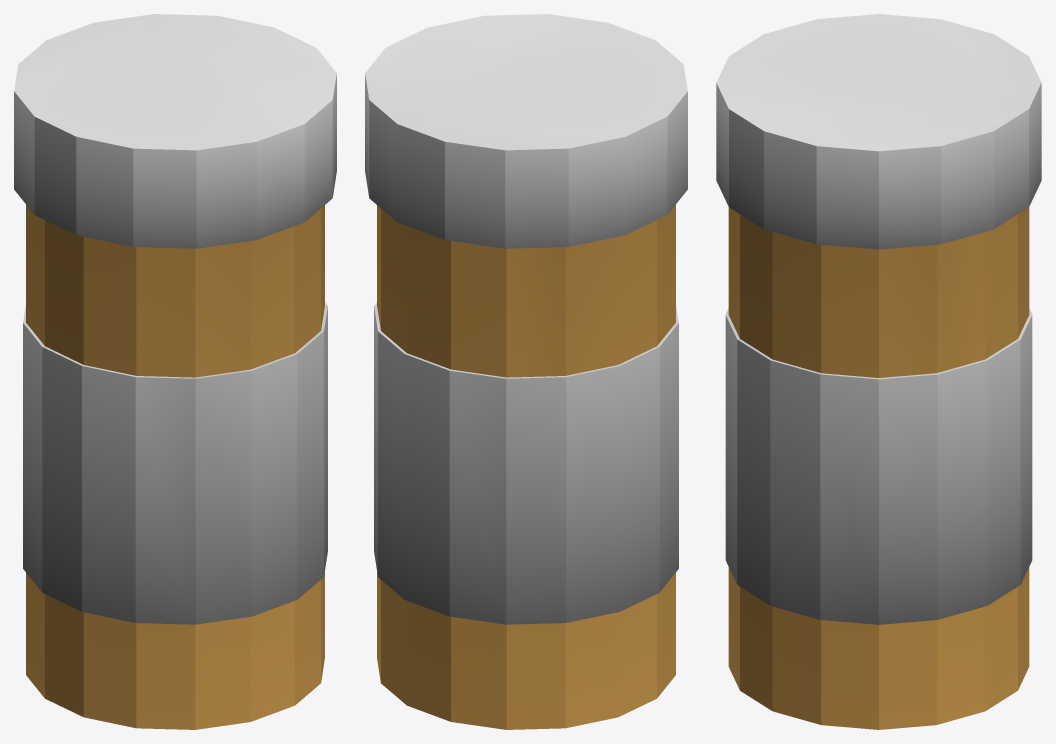
File: Loot_Antibiotics.fbx
3 renders of one model, left to right at view 1: azimuth 30°, elevation 25°; view 2: azimuth 150°, elevation 25°; view 3: azimuth 270°, elevation 25°, orthographic.
Parts seen in each view (by area): view 1: Loot_Antibiotics; view 2: Loot_Antibiotics; view 3: Loot_Antibiotics.
Boxes of the visible parts, <box> form: Loot_Antibiotics: <box>14,14,336,729</box>; Loot_Antibiotics: <box>365,14,687,729</box>; Loot_Antibiotics: <box>716,14,1041,729</box>.
Bounding box in the file's own units: 0.054 × 0.107 × 0.054.
